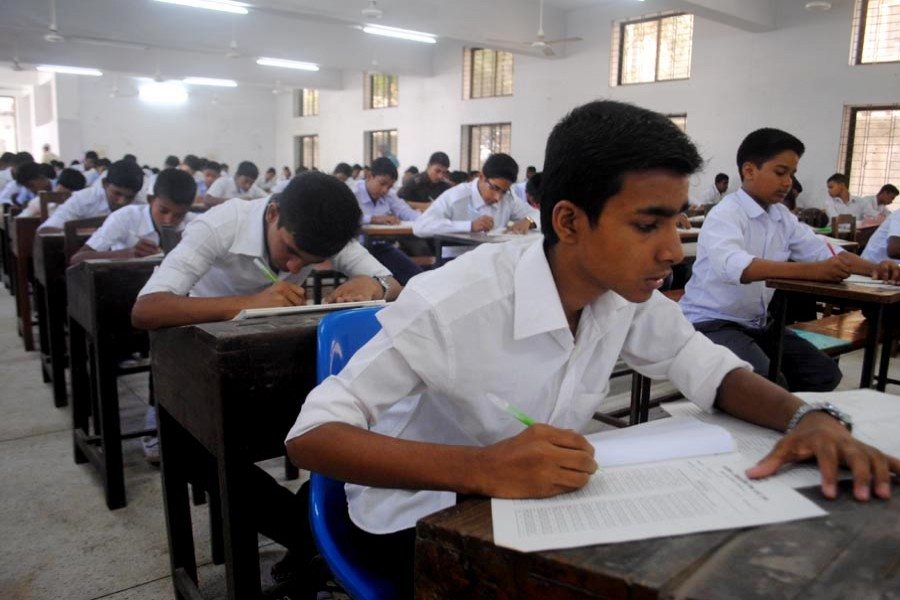student: (412, 103, 730, 521), (145, 173, 403, 342), (694, 132, 852, 326), (81, 163, 216, 272), (416, 155, 530, 251), (59, 159, 154, 234), (344, 144, 418, 221)
